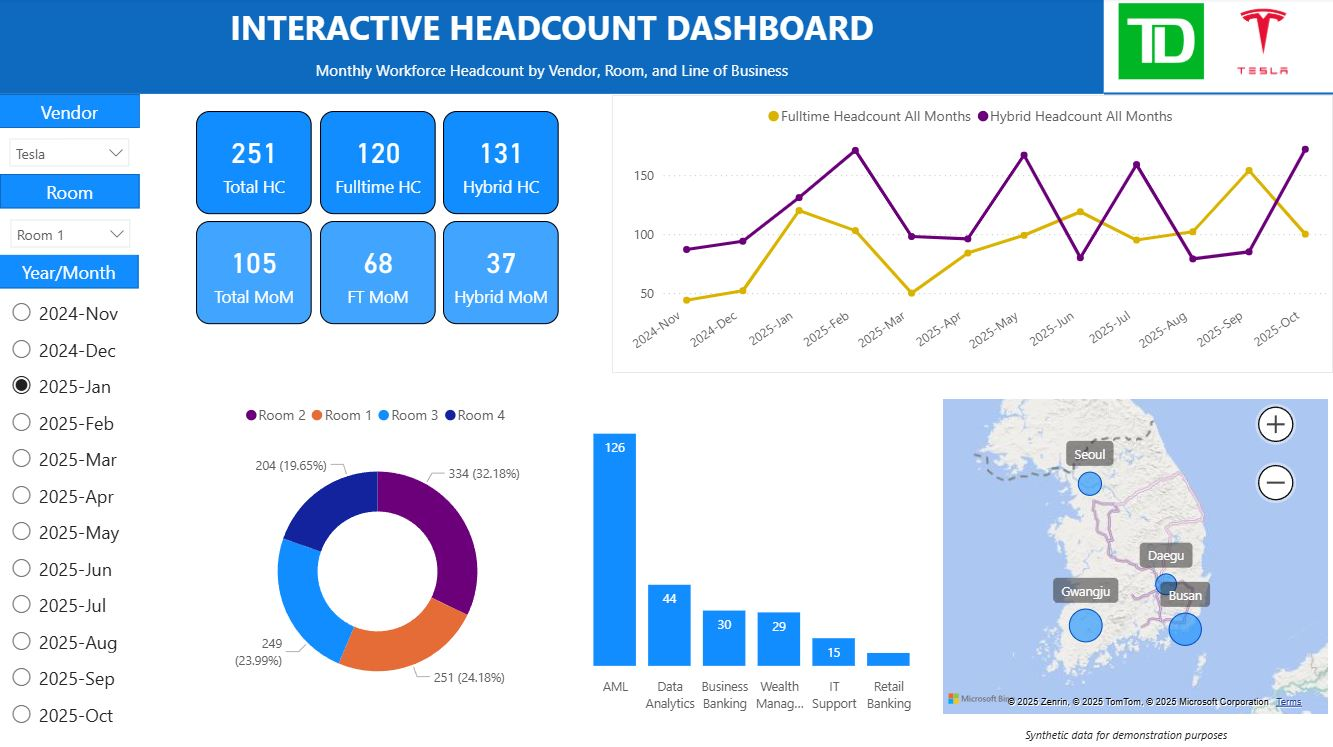

The dashboard page shown, as its layout file describes it:
{"tool":"powerbi","page":{"name":"Dashboard","canvas":[1280,720],"ordinal":0},"visuals":[{"type":"shape","box":[0,0,1060.3,92.1],"z":0},{"type":"image","box":[1060.3,0,110.3,83.5],"z":1000},{"type":"multiRowCard","fields":{"Values":["Sheet2.URL"]},"box":[1170.6,0,109.4,92.1],"z":2000},{"type":"slicer","fields":{"Values":["Calendar.Year-Month"]},"box":[0,279.1,134,439],"z":3000},{"type":"shape","box":[0,246.1,134,33],"z":4000},{"type":"shape","box":[0,92.1,135.3,32.6],"z":5000},{"type":"slicer","fields":{"Values":["with LOB.Vendor"]},"box":[0,125.1,135,44],"z":6000},{"type":"shape","box":[1,169.1,134,33],"z":7000},{"type":"slicer","fields":{"Values":["with LOB.Room"]},"box":[1,202.1,135,44],"z":8000},{"type":"shape","box":[1060.3,83.5,219.7,16.3],"z":9000},{"type":"card","fields":{"Values":["Sum(with LOB.Headcount)"]},"box":[189,108.4,111.3,98.8],"z":10000},{"type":"card","fields":{"Values":["Calendar.Fulltime HC"]},"box":[308,108.4,111.3,98.8],"z":11000},{"type":"card","fields":{"Values":["Calendar.Hybrid HC"]},"box":[426,108.4,111.3,98.8],"z":12000},{"type":"map","fields":{"Category":["with LOB.City"],"Size":["Sum(with LOB.Headcount)"]},"box":[901,380,379,311.8],"z":13000},{"type":"donutChart","fields":{"Category":["with LOB.Room"],"Y":["Sum(with LOB.Headcount)"]},"box":[189,380,348.3,311.8],"z":14000},{"type":"lineChart","fields":{"Category":["Calendar.Year-Month"],"Y":["Calendar.Fulltime Headcount All Months","Calendar.Hybrid Headcount All Months"]},"box":[588.2,93.1,691.8,266.7],"z":15000},{"type":"clusteredColumnChart","fields":{"Category":["with LOB.LineOfBusiness"],"Y":["Sum(with LOB.Headcount)"]},"box":[537.3,380,363.7,311.8],"z":16000},{"type":"card","fields":{"Values":["Calendar.Total HC MoM"]},"box":[189,214,111.3,98.8],"z":17000},{"type":"card","fields":{"Values":["Calendar.Fulltime HC MoM"]},"box":[308,214,111.3,98.8],"z":18000},{"type":"card","fields":{"Values":["Calendar.Hybrid HC MoM"]},"box":[426,214,111.3,98.8],"z":19000},{"type":"textbox","box":[1,0,1059.3,53.7],"z":20000},{"type":"textbox","box":[1,53.7,1059.3,38.4],"z":21000},{"type":"textbox","box":[979.7,691.8,300.3,27.8],"z":21001}]}

Visuals, with their boxes in screenshot pixels (x1, y1, x2, y2), scaled from the page's 1280x720 canvas onto the 1333x747 screenshot:
shape: [x1=0, y1=0, x2=1104, y2=96]
image: [x1=1104, y1=0, x2=1219, y2=87]
multiRowCard - Sheet2.URL: [x1=1219, y1=0, x2=1332, y2=96]
slicer - Calendar.Year-Month: [x1=0, y1=290, x2=140, y2=745]
shape: [x1=0, y1=255, x2=140, y2=290]
shape: [x1=0, y1=96, x2=141, y2=129]
slicer - with LOB.Vendor: [x1=0, y1=130, x2=141, y2=175]
shape: [x1=1, y1=175, x2=141, y2=210]
slicer - with LOB.Room: [x1=1, y1=210, x2=142, y2=255]
shape: [x1=1104, y1=87, x2=1332, y2=104]
card - Sum(with LOB.Headcount): [x1=197, y1=112, x2=313, y2=215]
card - Calendar.Fulltime HC: [x1=321, y1=112, x2=437, y2=215]
card - Calendar.Hybrid HC: [x1=444, y1=112, x2=560, y2=215]
map - with LOB.City x Sum(with LOB.Headcount): [x1=938, y1=394, x2=1332, y2=718]
donutChart - with LOB.Room x Sum(with LOB.Headcount): [x1=197, y1=394, x2=560, y2=718]
lineChart - Calendar.Year-Month x Calendar.Fulltime Headcount All Months: [x1=613, y1=97, x2=1332, y2=373]
clusteredColumnChart - with LOB.LineOfBusiness x Sum(with LOB.Headcount): [x1=560, y1=394, x2=938, y2=718]
card - Calendar.Total HC MoM: [x1=197, y1=222, x2=313, y2=325]
card - Calendar.Fulltime HC MoM: [x1=321, y1=222, x2=437, y2=325]
card - Calendar.Hybrid HC MoM: [x1=444, y1=222, x2=560, y2=325]
textbox: [x1=1, y1=0, x2=1104, y2=56]
textbox: [x1=1, y1=56, x2=1104, y2=96]
textbox: [x1=1020, y1=718, x2=1332, y2=746]
